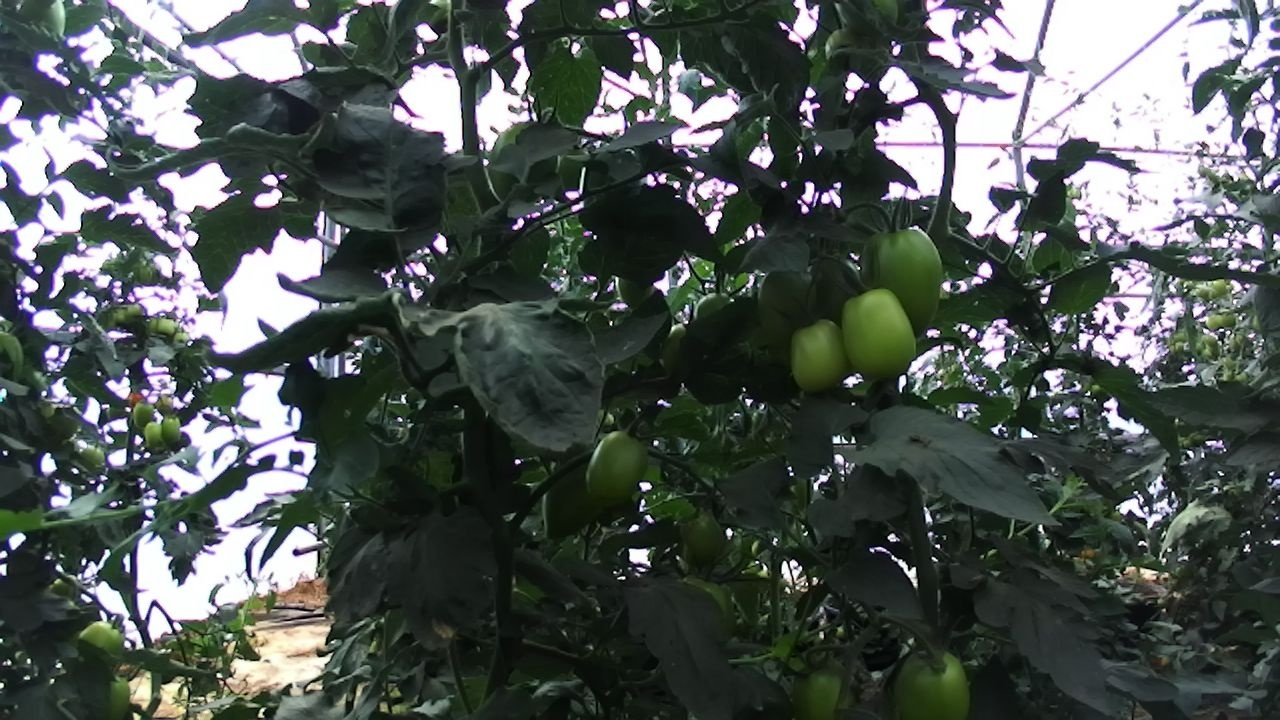tomato: (851, 205, 961, 352), (865, 625, 999, 720), (831, 277, 933, 393), (475, 110, 578, 223), (750, 250, 836, 366), (532, 438, 617, 553), (574, 422, 661, 518), (778, 313, 859, 401), (779, 648, 871, 720), (668, 500, 743, 574), (7, 0, 84, 69), (70, 602, 134, 681), (88, 669, 140, 720), (612, 265, 662, 315), (67, 435, 116, 483), (156, 411, 186, 448), (130, 398, 161, 431), (141, 415, 167, 449), (151, 389, 181, 418), (1212, 305, 1240, 332), (153, 314, 178, 339), (123, 389, 149, 412), (171, 329, 193, 355), (111, 307, 133, 330), (1202, 310, 1223, 333), (1197, 282, 1218, 303), (1210, 276, 1229, 299), (125, 299, 146, 319)
